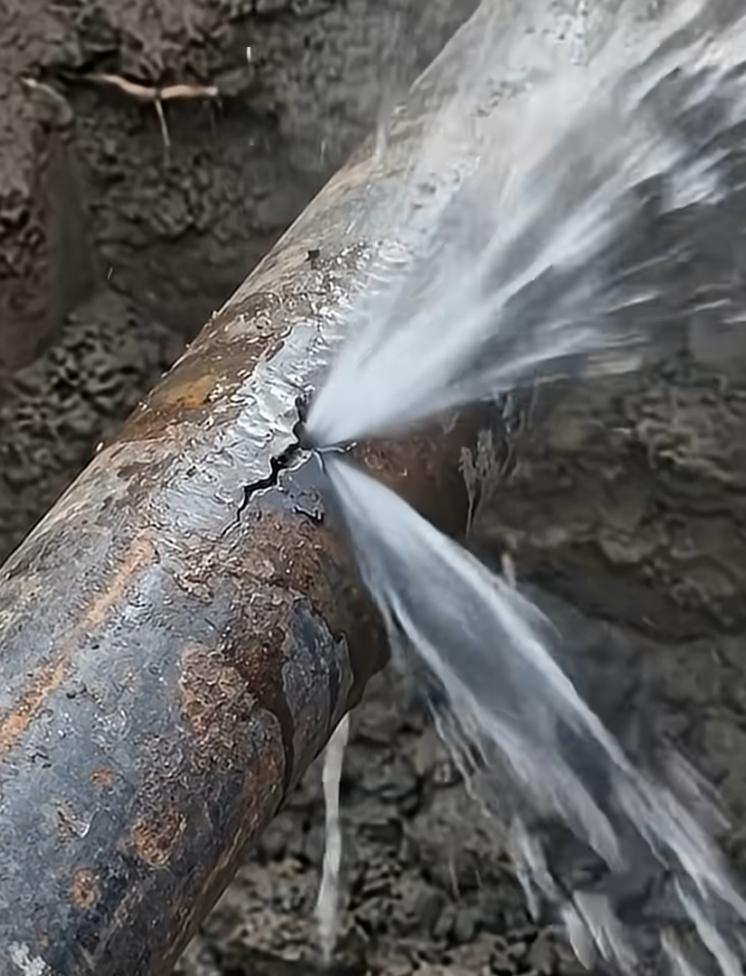pipe burst: (278, 2, 746, 976)
